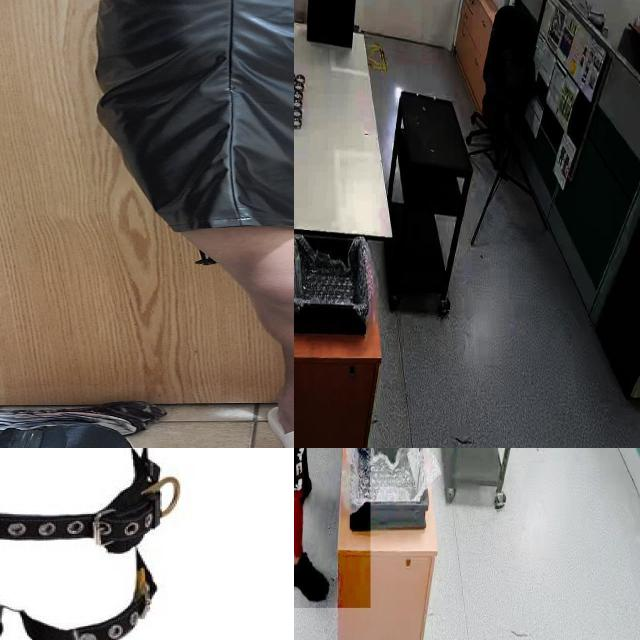Harness: (0, 448, 179, 554), (15, 554, 157, 640)
person: (294, 448, 371, 608)
shoes: (294, 545, 333, 607)
